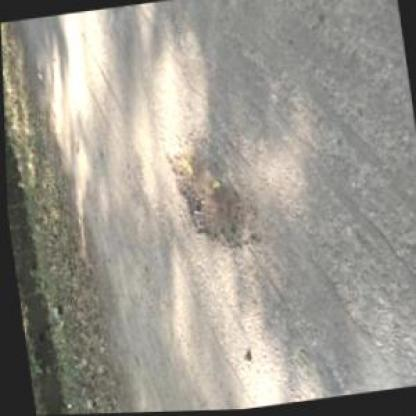pothole: (158, 130, 266, 260)
